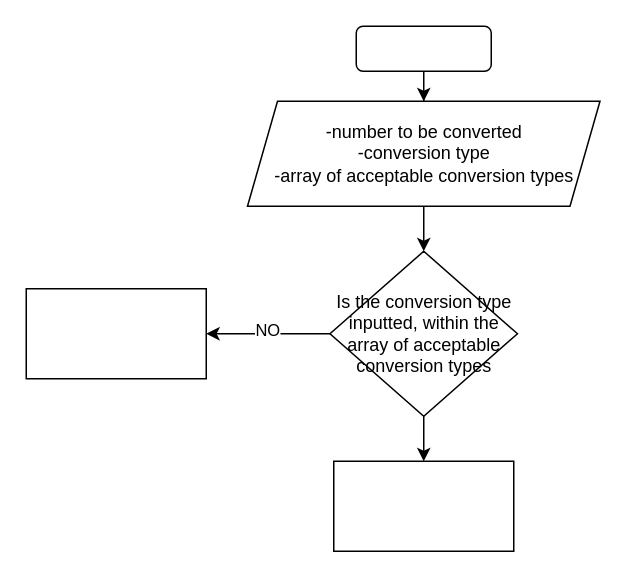
Some shapes in this 627 by 578 pixel diagram are drawn without their labels. Each missing label, with the centre of its shape:
START: the point at 423,48
throw error message 'Invalid conversion type': the point at 115,333
